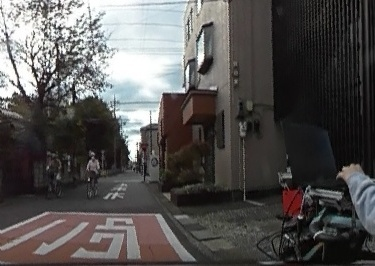person: (46, 151, 61, 185), (85, 150, 99, 185)
